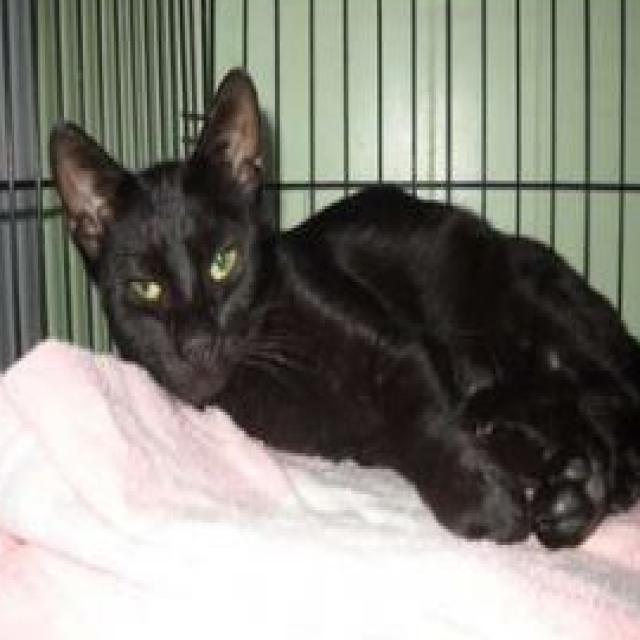Bombay: (45, 60, 640, 548)
